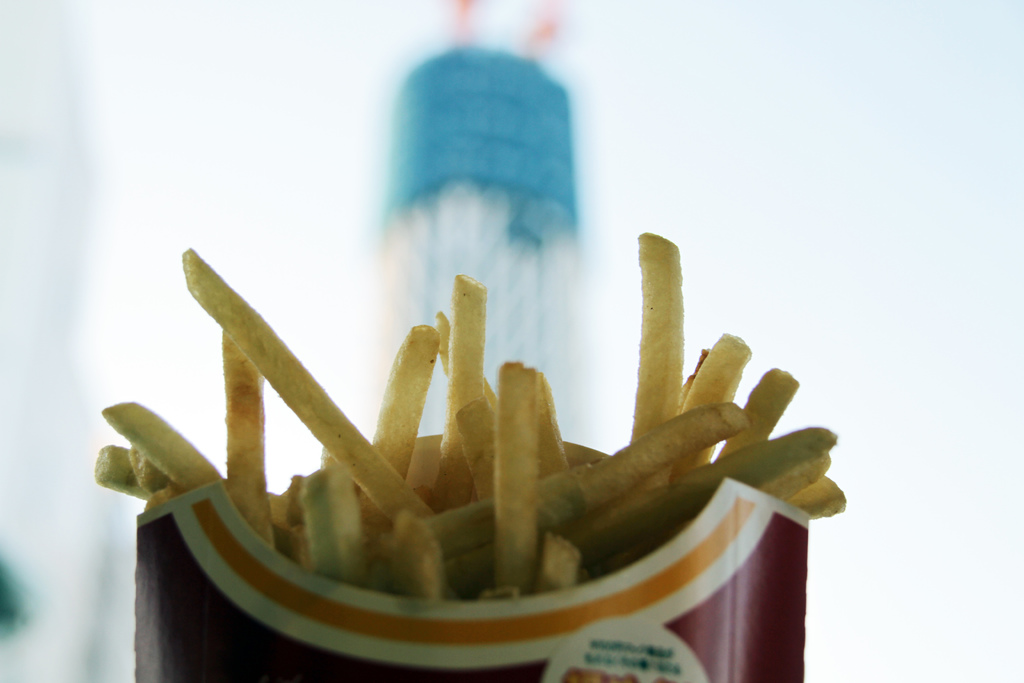French fries: (76, 213, 846, 613)
